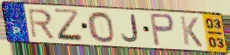J: (120, 14, 141, 44)
K: (178, 15, 204, 49)
O: (86, 10, 117, 44)
P: (148, 12, 177, 48)
R: (26, 8, 57, 40)
Z: (52, 8, 86, 43)
